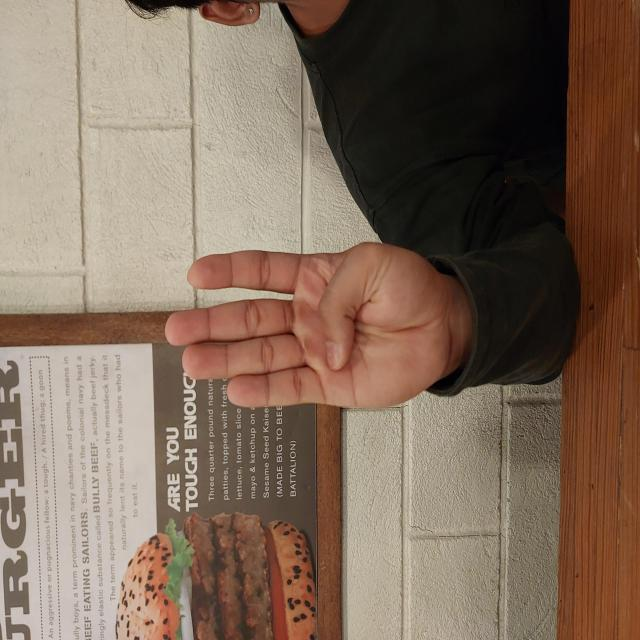B: (230, 164, 400, 450)
